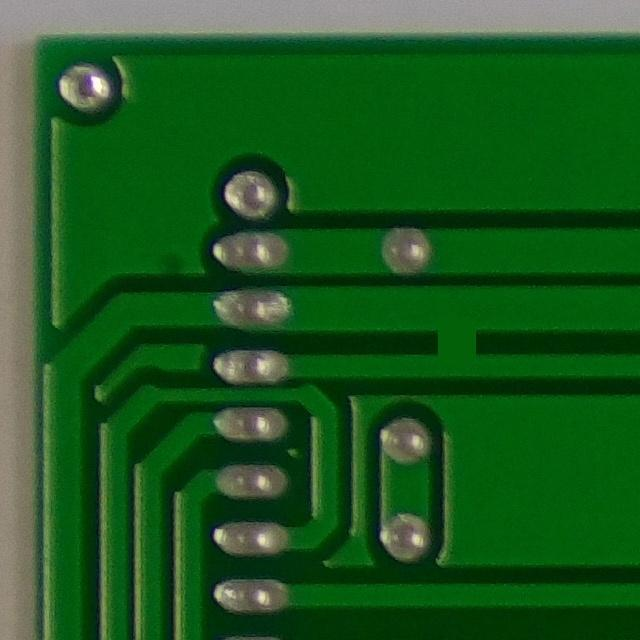short: (400, 295, 510, 387)
